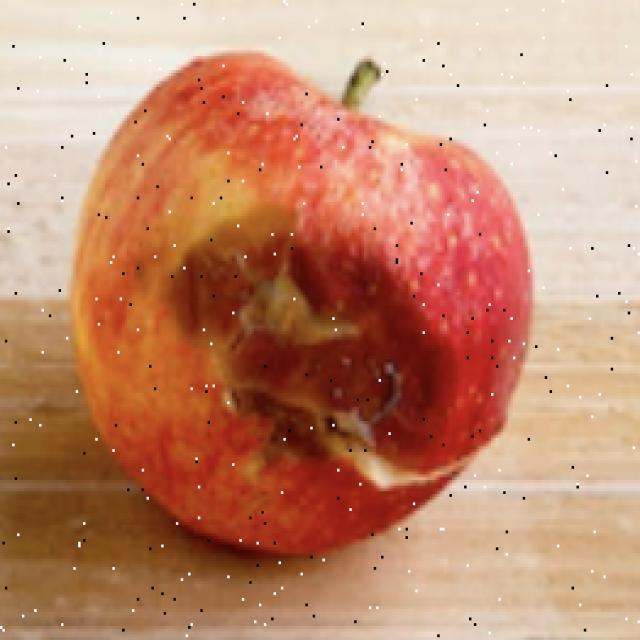Rotten: (69, 55, 538, 570)
